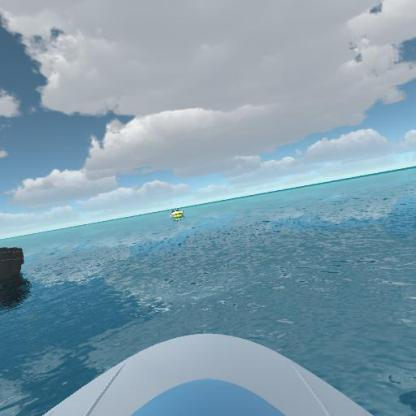usv2: (167, 205, 188, 223)
